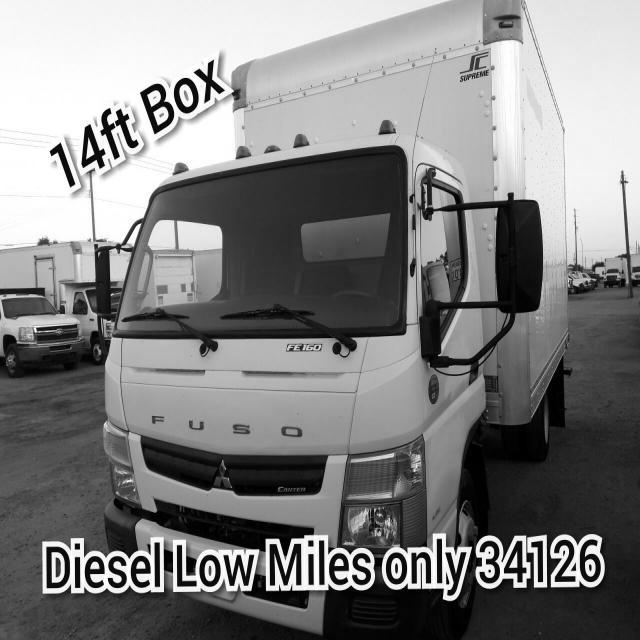truck: (67, 109, 562, 640)
